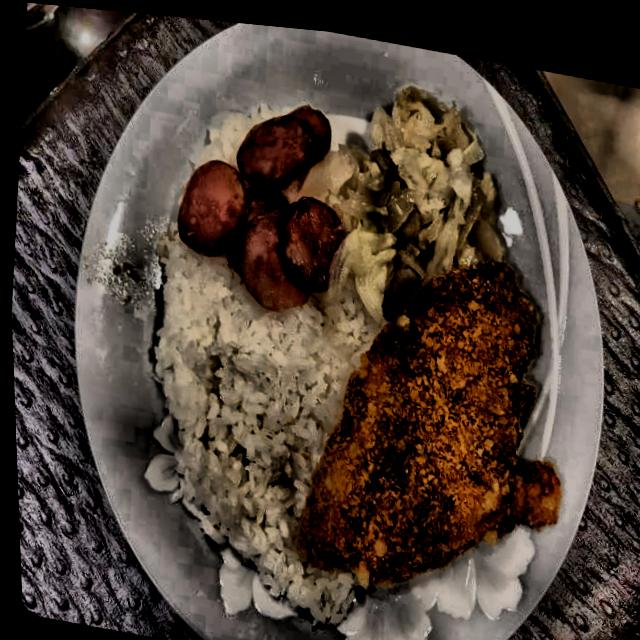Food: (281, 221, 543, 595), (164, 77, 343, 314), (324, 75, 493, 307), (164, 287, 322, 523)
